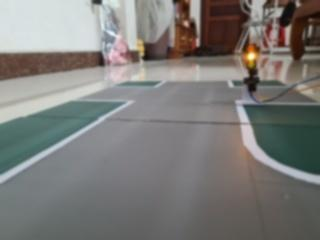yellow: (241, 37, 262, 75)
